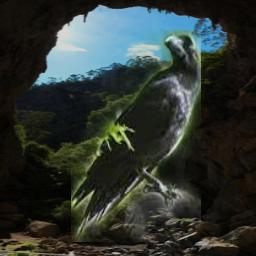Crow: (71, 30, 201, 242)
